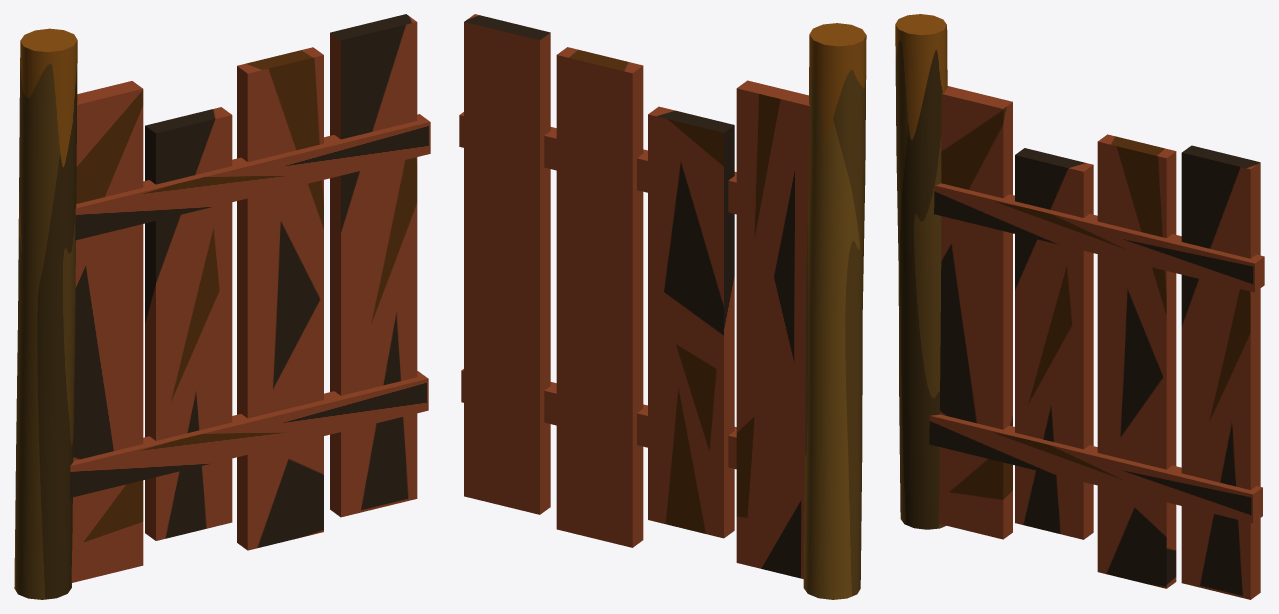
The model's file is PRMC_Puerta02.FBX.
3 views of the same model, side by side, from view 1: azimuth 30°, elevation 25°; view 2: azimuth 150°, elevation 25°; view 3: azimuth 330°, elevation 25° (orthographic). The views are drawn at different scales.
Parts seen in each view (by area): view 1: PRMC_Puerta02; view 2: PRMC_Puerta02; view 3: PRMC_Puerta02.
Boxes of the visible parts, x1,y1,x2,y2 form: PRMC_Puerta02: (14, 14, 430, 599); PRMC_Puerta02: (459, 14, 866, 599); PRMC_Puerta02: (895, 14, 1264, 599).
Bounding box in the file's own units: 2.13 × 2.84 × 0.3067.
